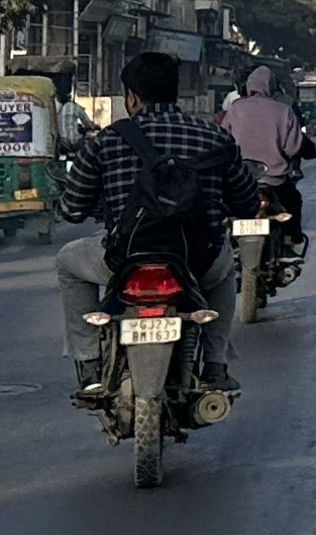BikeWithRider: (49, 51, 275, 491), (218, 59, 313, 328)
NoHelmet: (120, 52, 186, 121), (245, 60, 277, 102)
